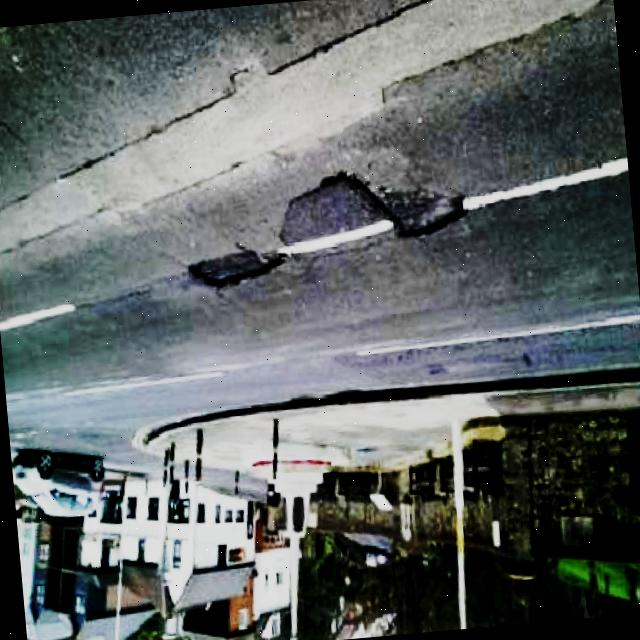pothole: (271, 166, 406, 260), (373, 180, 470, 241), (188, 244, 292, 294)
